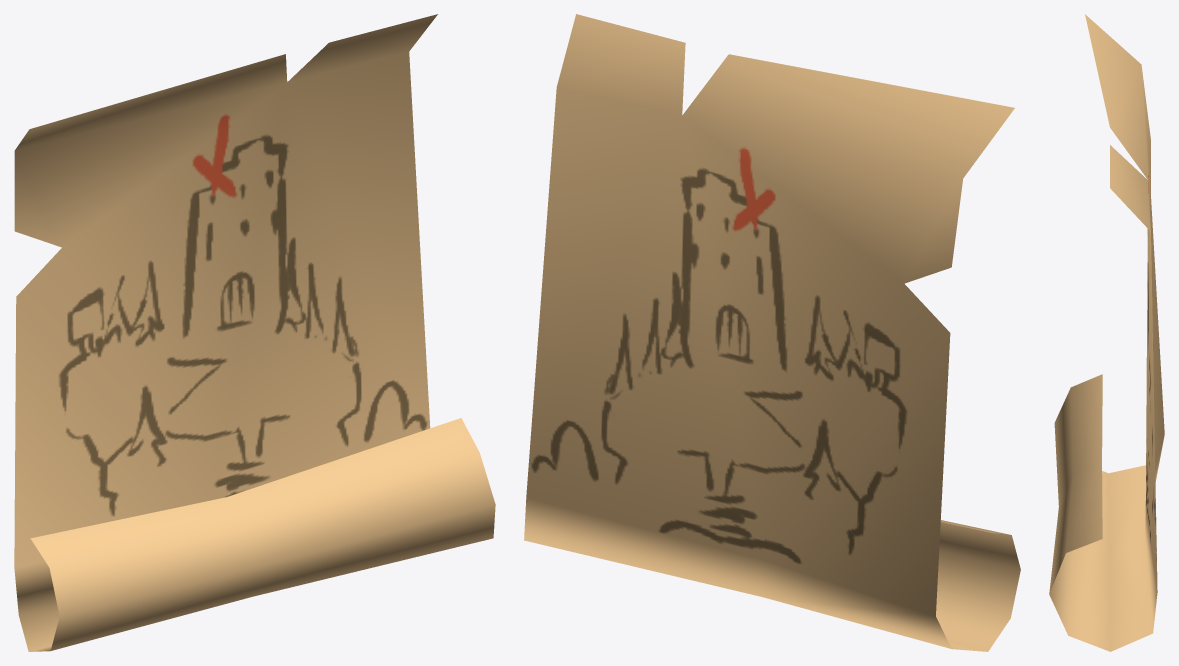
File: map.fbx
3 renders of one model, left to right at view 1: azimuth 30°, elevation 25°; view 2: azimuth 150°, elevation 25°; view 3: azimuth 270°, elevation 25°, orthographic. The views are drawn at different scales.
Visible parts, largest first — view 1: Map; view 2: Map; view 3: Map.
Boxes of the visible parts, x1,y1,x2,y2 form: Map: (14,14,495,651); Map: (524,14,1020,651); Map: (1049,14,1164,651).
Size of the model in its own units: 376 by 422 by 97.21.
